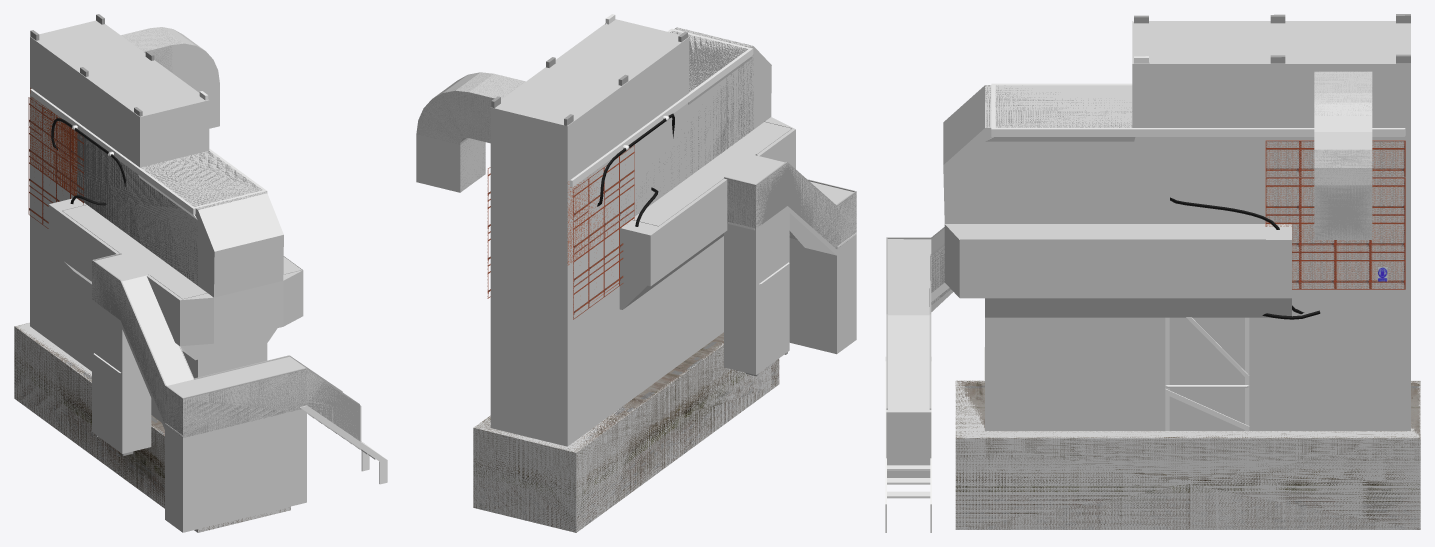
The model's file is s_quarry_distributor_01.dae.
The picture shows the model from 3 angles, left to right: view 1: azimuth 30°, elevation 25°; view 2: azimuth 150°, elevation 25°; view 3: azimuth 270°, elevation 25°; orthographic projection. The views are drawn at different scales.
Visible parts, largest first — view 1: Colmesh-1, s_quarry_distributor01_a300, s_quarry_distributor01_a100, s_quarry_distributor01_a050; view 2: Colmesh-1, s_quarry_distributor01_a100, s_quarry_distributor01_a300, s_quarry_distributor01_a050; view 3: Colmesh-1, s_quarry_distributor01_a100, s_quarry_distributor01_a300, s_quarry_distributor01_a050.
Part boxes in pixels (left/top/right/bottom): Colmesh-1: left=14, top=20, right=361, bottom=532; s_quarry_distributor01_a300: left=15, top=14, right=387, bottom=484; s_quarry_distributor01_a100: left=14, top=28, right=306, bottom=532; s_quarry_distributor01_a050: left=30, top=88, right=264, bottom=284; Colmesh-1: left=416, top=19, right=856, bottom=532; s_quarry_distributor01_a100: left=416, top=29, right=856, bottom=532; s_quarry_distributor01_a300: left=476, top=14, right=856, bottom=451; s_quarry_distributor01_a050: left=567, top=27, right=753, bottom=265; Colmesh-1: left=886, top=21, right=1420, bottom=529; s_quarry_distributor01_a100: left=885, top=71, right=1420, bottom=529; s_quarry_distributor01_a300: left=885, top=14, right=1420, bottom=532; s_quarry_distributor01_a050: left=985, top=85, right=1131, bottom=127.
Size of the model in its own units: 5.62 by 9.9 by 9.51.
